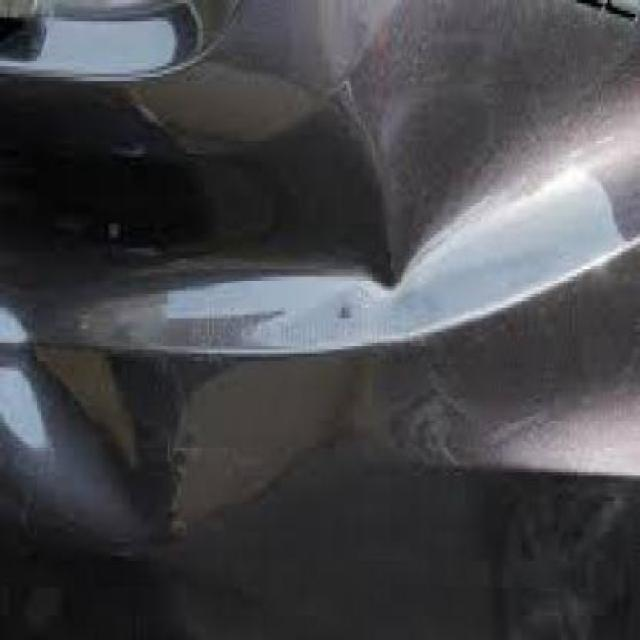dent: (405, 112, 618, 278), (271, 100, 402, 288), (383, 91, 502, 285)
